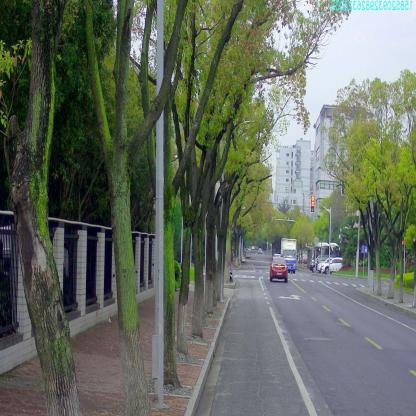traffic-light: (311, 194, 315, 212)
